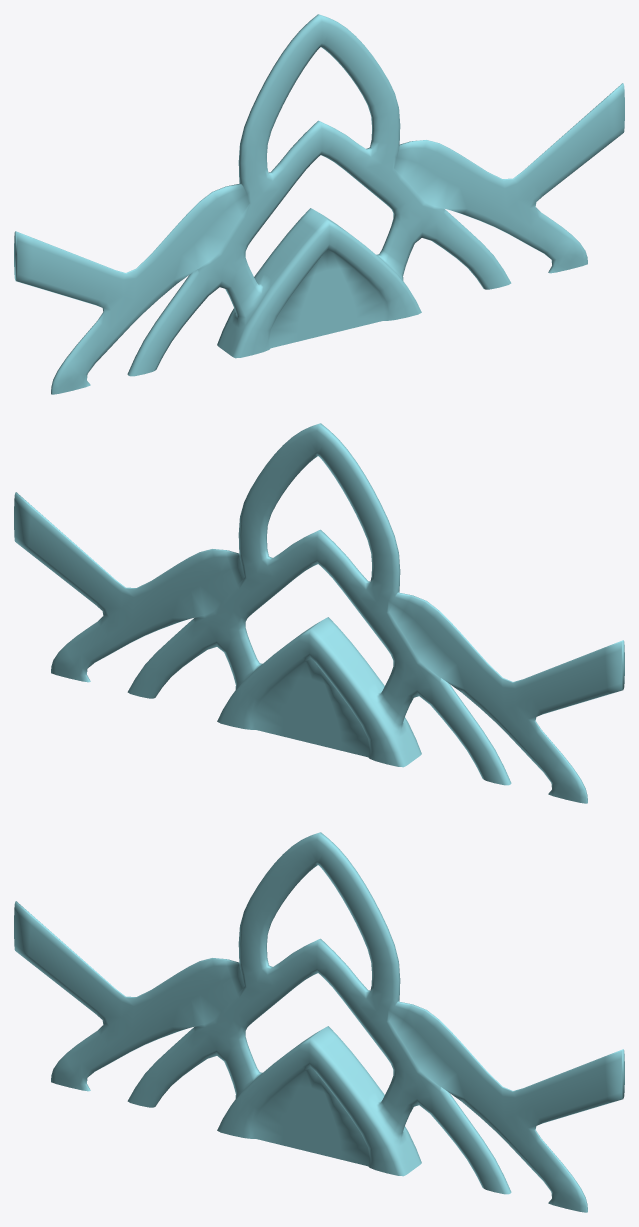
The model's file is TrimThing.fbx.
The picture shows the model from 3 angles, top to bottom: view 1: azimuth 30°, elevation 25°; view 2: azimuth 150°, elevation 25°; view 3: azimuth 330°, elevation 25°; orthographic projection.
Visible parts, largest first — view 1: Cube.013; view 2: Cube.013; view 3: Cube.013.
Part boxes in pixels (x1,y1,x2,y2): Cube.013: (14, 14, 624, 394); Cube.013: (14, 423, 624, 803); Cube.013: (14, 832, 624, 1212).
Size of the model in its own units: 52 by 25.71 by 3.08.
